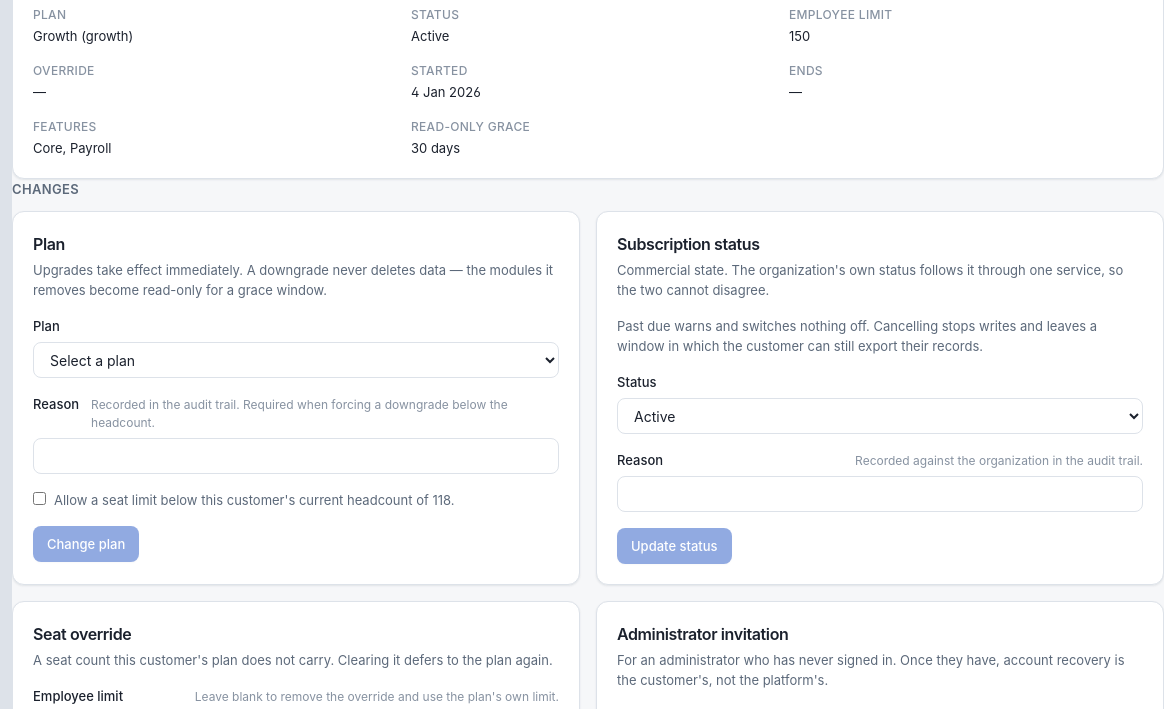
it: changing what a customer is on › prints the service's sentence when a downgrade is refused
(page scrolled)
Select "Starter — 25 seats" in the dropdown labelled "Plan": x=296, y=360 [33, 342, 559, 378]
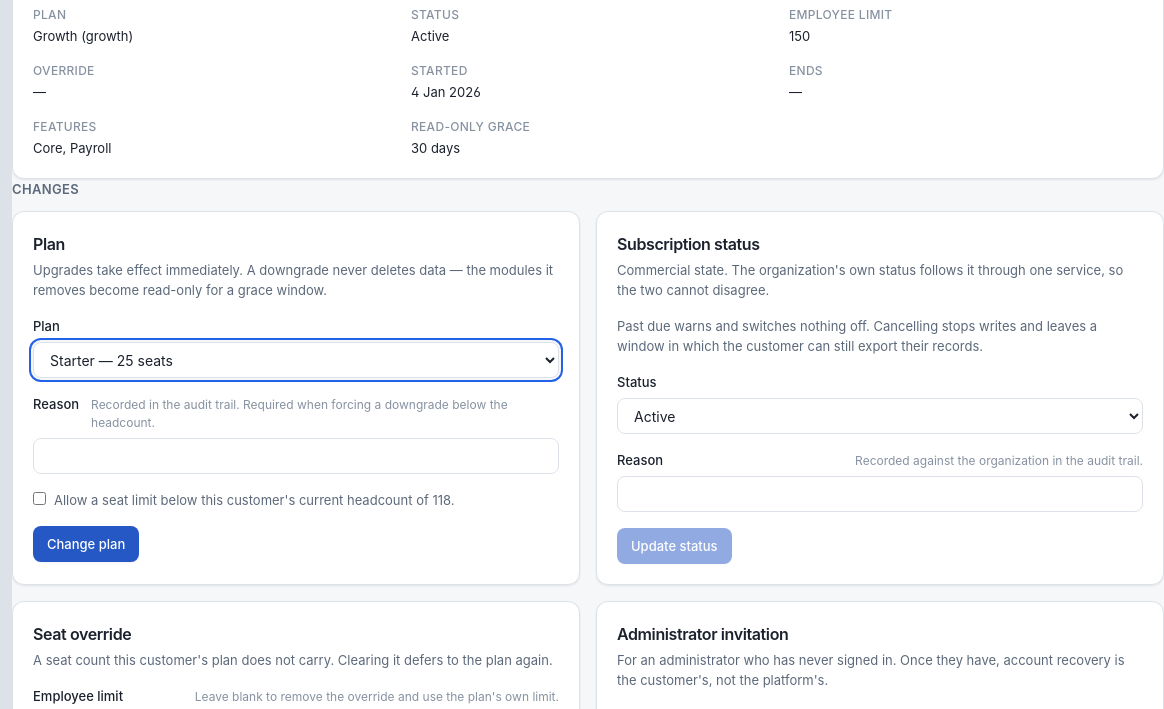
Click the button "Change plan": x=86, y=544 [33, 526, 139, 562]
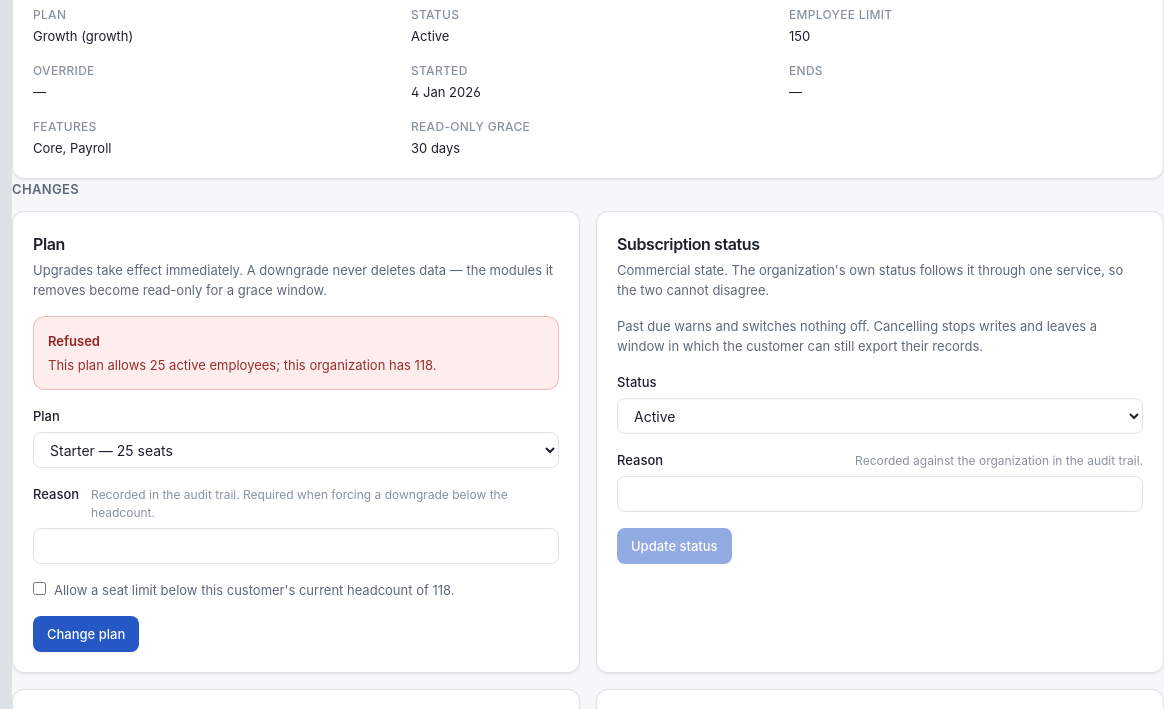
Check: the text "This plan allows 25 active employees; this organization has 118." is shown, box [48, 357, 437, 373]
